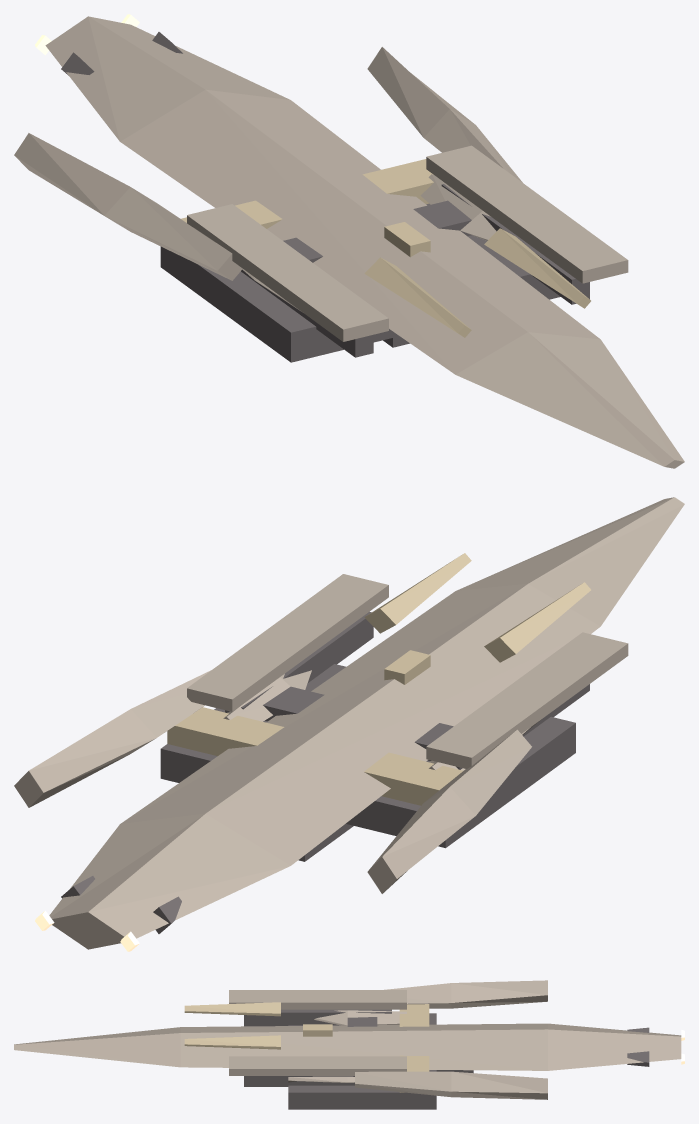
3 renders of one model, top to bottom at view 1: azimuth 30°, elevation 25°; view 2: azimuth 150°, elevation 25°; view 3: azimuth 270°, elevation 25°, orthographic. The views are drawn at different scales.
Bounding box in the file's own units: 6.92 × 1.84 × 18.46.
